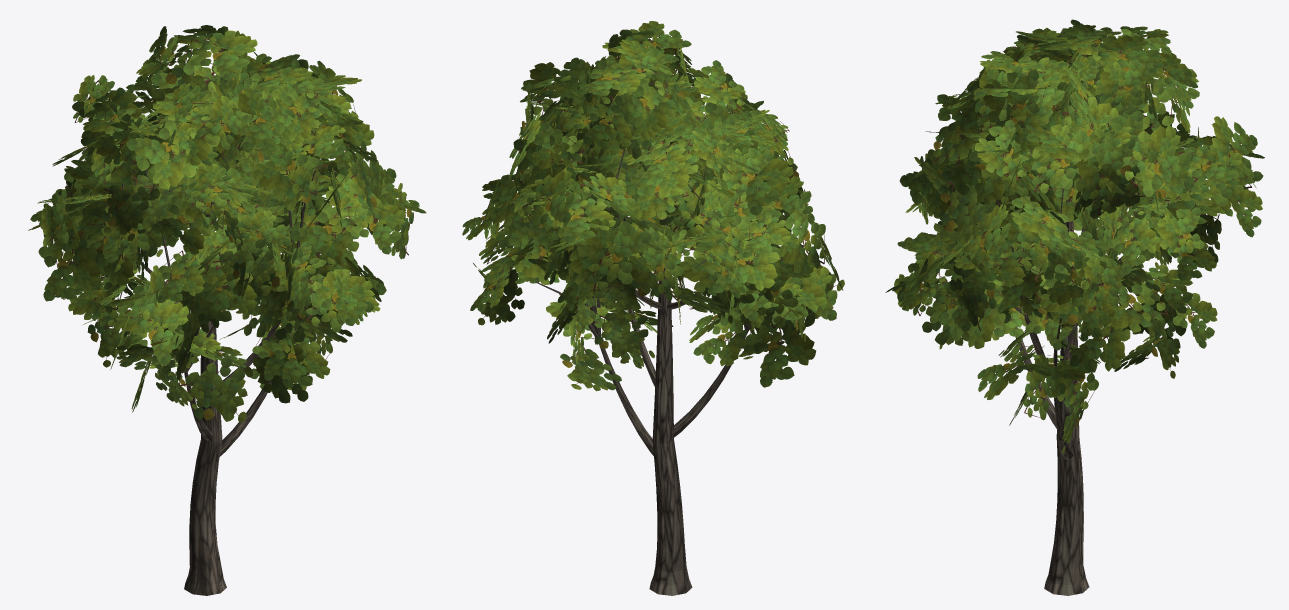
File: tr_lime_b.glb
3 renders of one model, left to right at view 1: azimuth 30°, elevation 25°; view 2: azimuth 150°, elevation 25°; view 3: azimuth 270°, elevation 25°, orthographic. The views are drawn at different scales.
Parts seen in each view (by area): view 1: body|leaves_lime, body|bark_oak; view 2: body|leaves_lime, body|bark_oak; view 3: body|leaves_lime, body|bark_oak.
Boxes of the visible parts, <box> form: body|leaves_lime: <box>28,25,426,422</box>; body|bark_oak: <box>100,155,345,595</box>; body|leaves_lime: <box>462,21,844,391</box>; body|bark_oak: <box>536,150,767,595</box>; body|leaves_lime: <box>885,19,1264,453</box>; body|bark_oak: <box>987,150,1122,595</box>.
Bounding box in the file's own units: 7.57 × 10.8 × 6.74.
2 materials, 2 textured.
